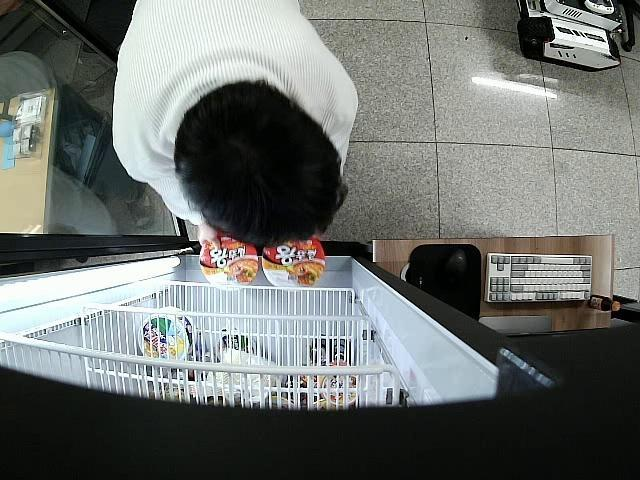10_wangTtukkeong: (200, 234, 258, 289)
